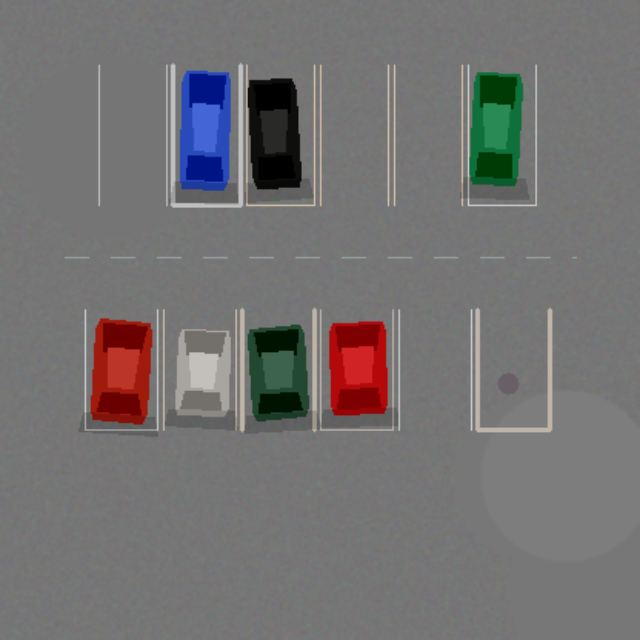space-empty: (98, 65, 166, 205), (320, 65, 388, 205), (394, 65, 462, 205), (398, 309, 471, 429), (477, 309, 549, 429)
space-occupied: (172, 65, 240, 205), (246, 65, 314, 205), (468, 65, 535, 205), (85, 309, 157, 429), (163, 309, 235, 429), (242, 309, 314, 429), (320, 309, 392, 429)
